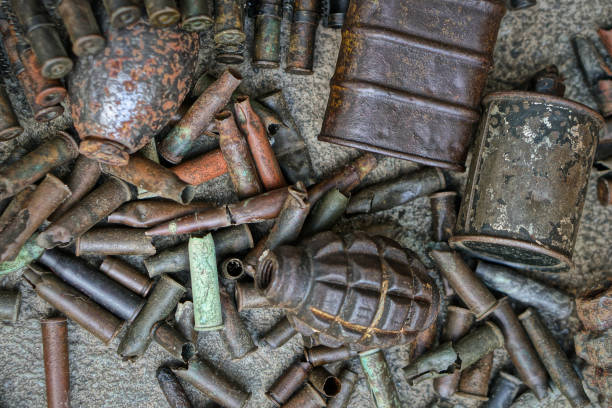e1: (453, 61, 604, 270), (254, 229, 433, 354)
